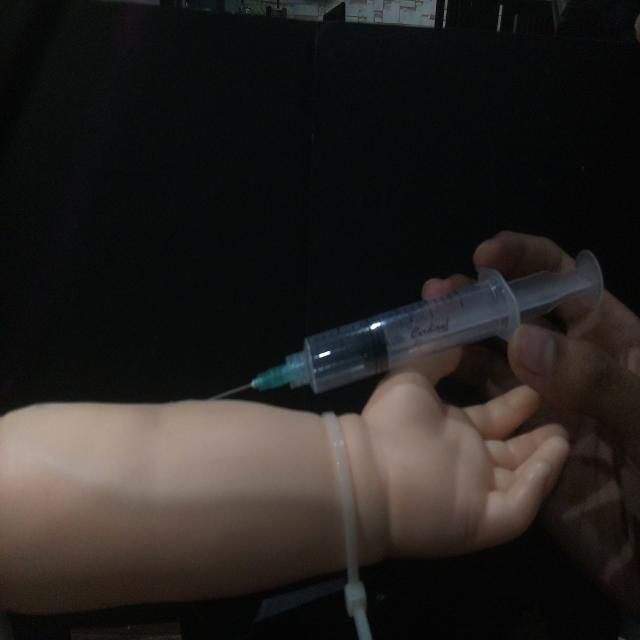16deg: (205, 246, 606, 404)
